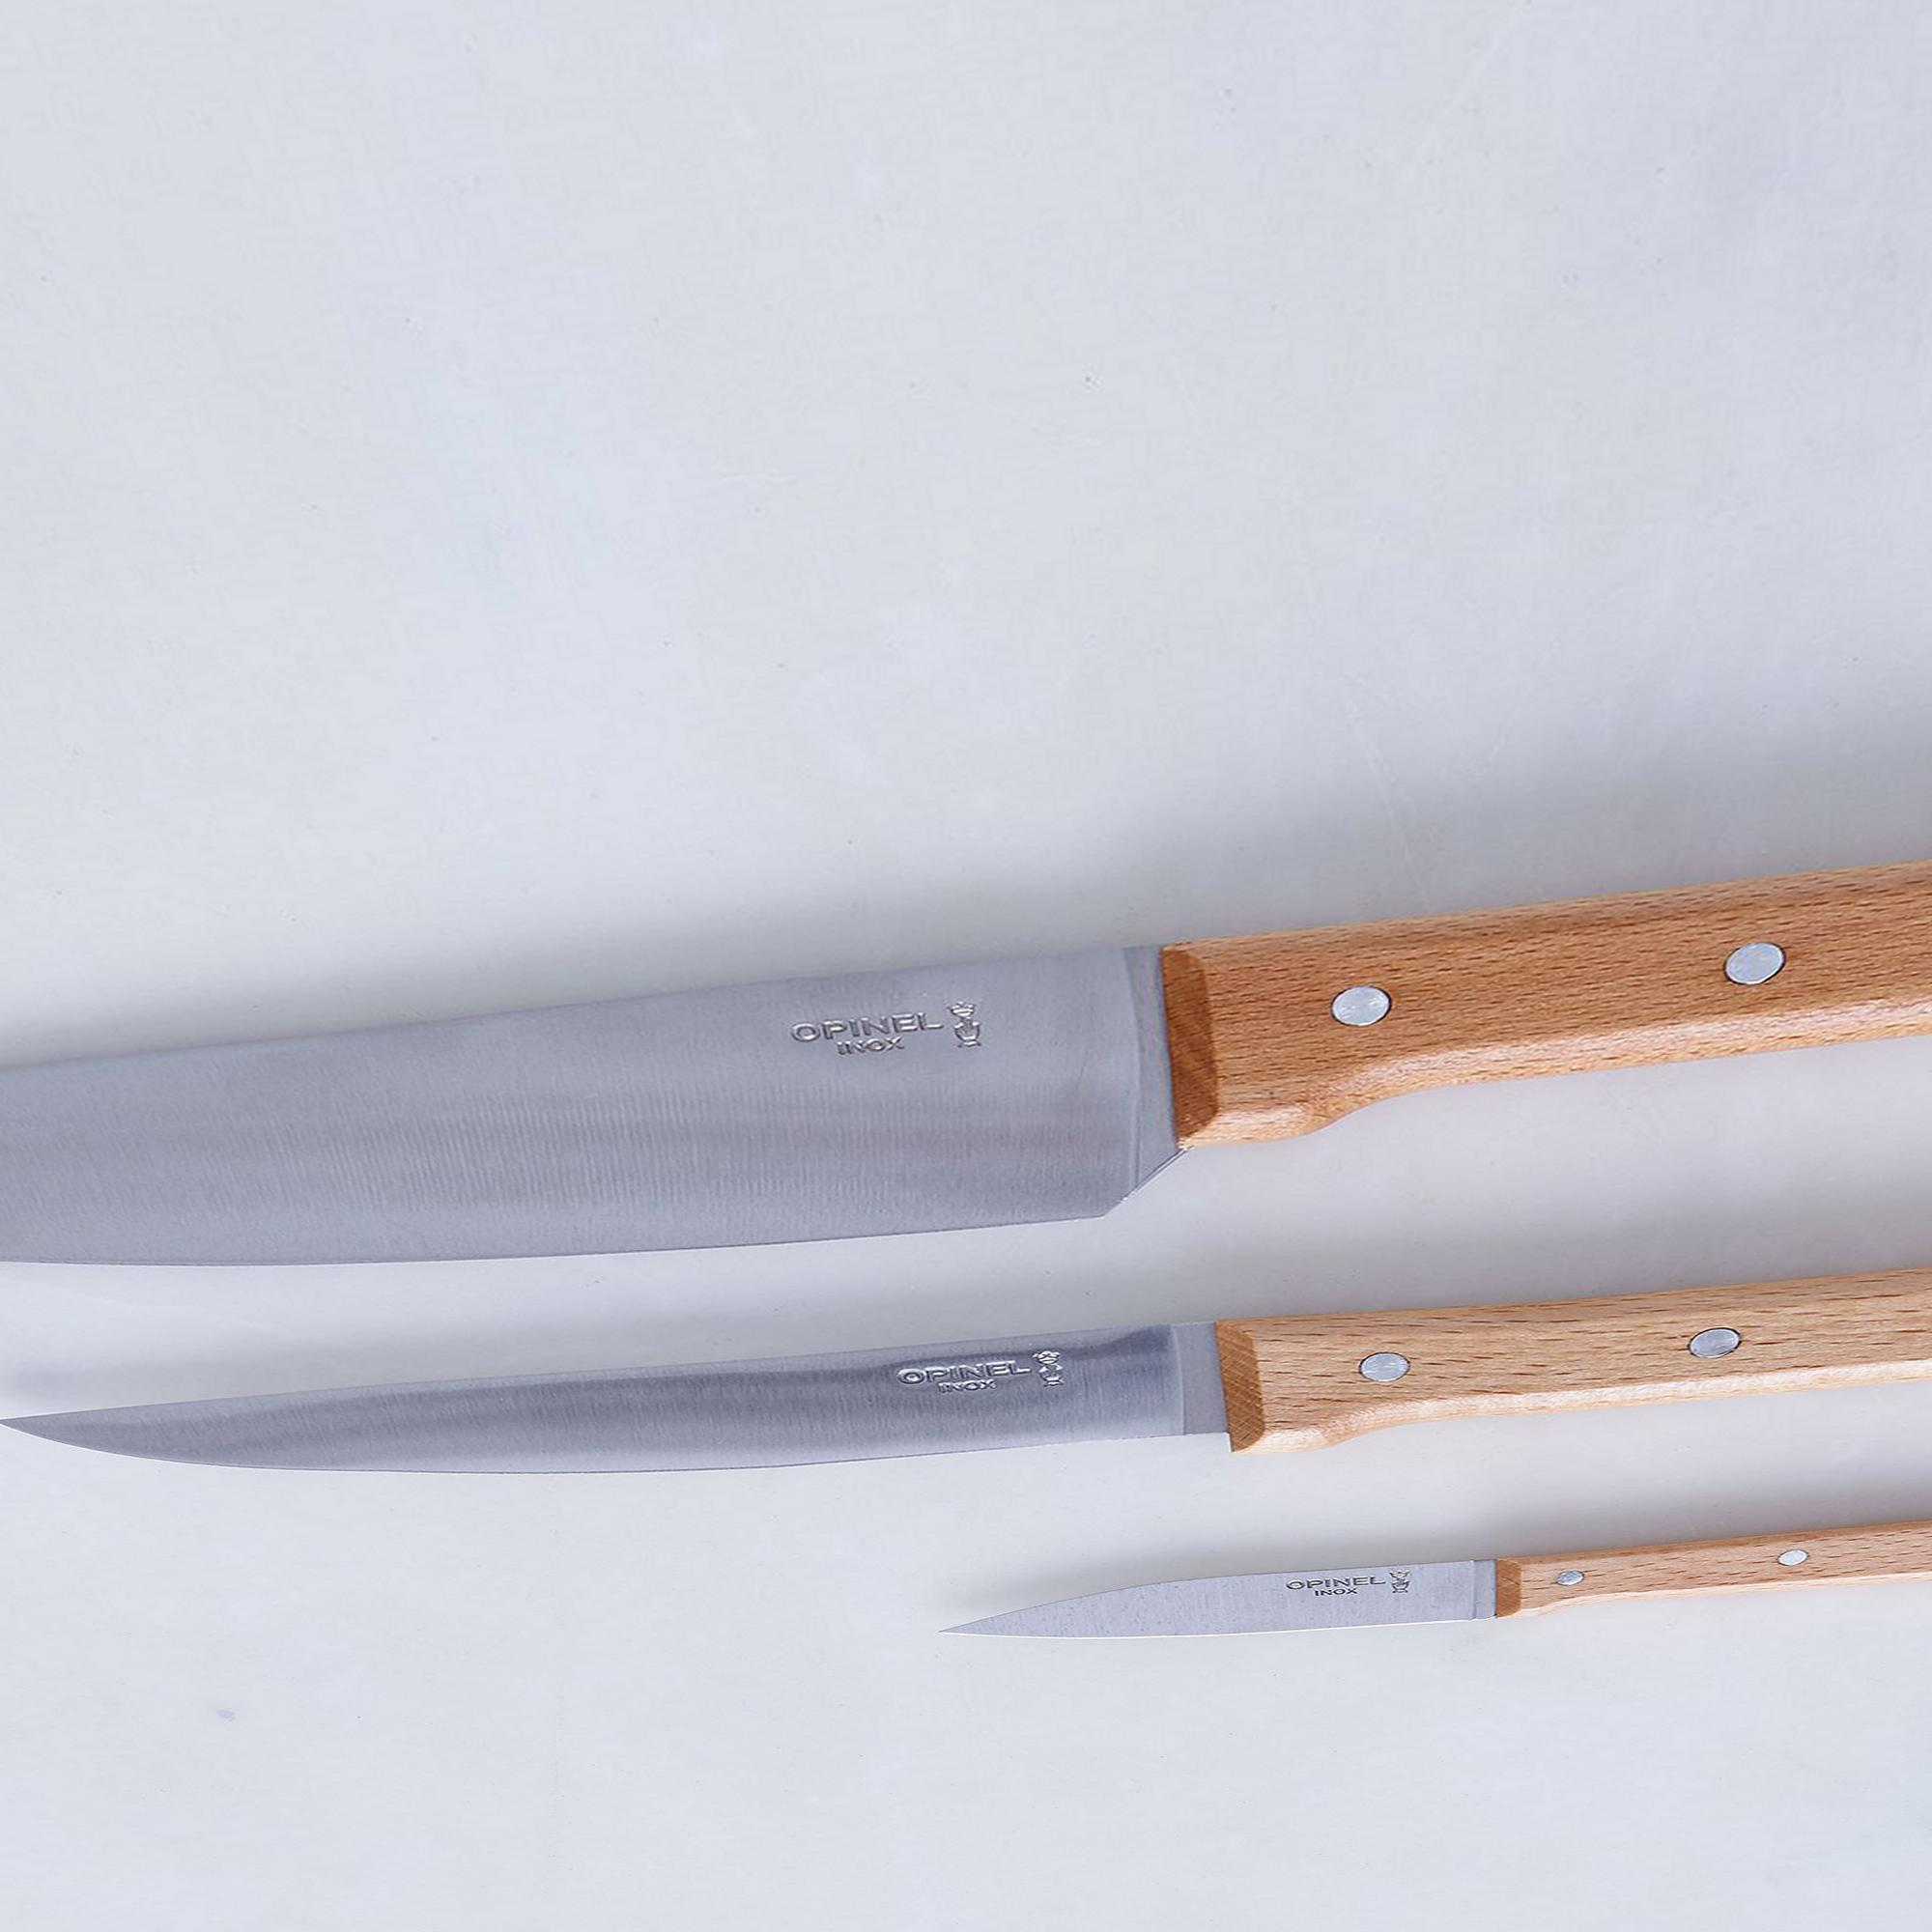knife: (7, 860, 1932, 1226), (9, 1269, 1932, 1477), (955, 1518, 1932, 1644)
